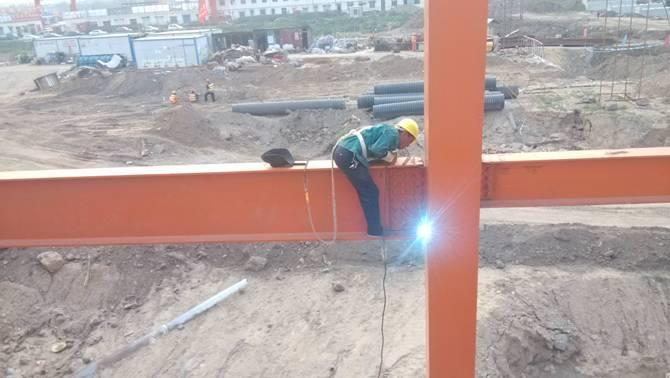helmet: (399, 119, 421, 142)
